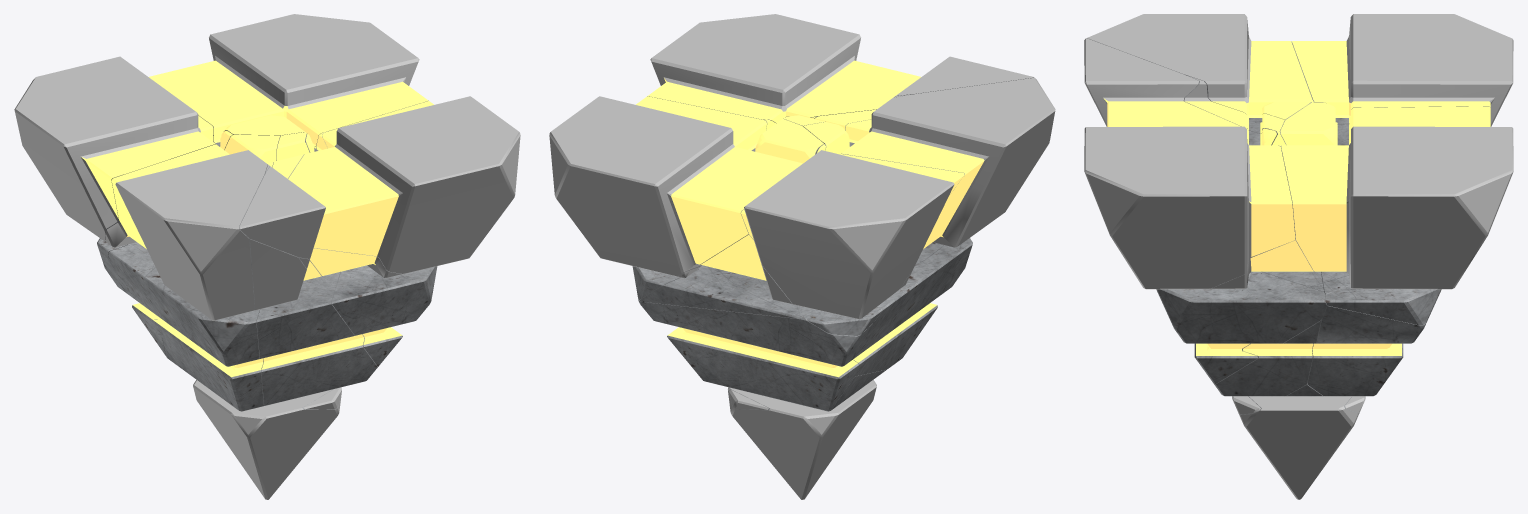
File: Fractured-Pyramid.fbx
3 views of the same model, side by side, from view 1: azimuth 30°, elevation 25°; view 2: azimuth 150°, elevation 25°; view 3: azimuth 270°, elevation 25° (orthographic). The views are drawn at different scales.
Parts seen in each view (by area): view 1: Inverted Pyramid_cell.030, Inverted Pyramid_cell.034, Inverted Pyramid_cell.036, Inverted Pyramid_cell.047, Inverted Pyramid_cell.031, Inverted Pyramid_cell.035, Inverted Pyramid_cell.045, Inverted Pyramid_cell.032, Inverted Pyramid_cell.042, Inverted Pyramid_cell.027, Inverted Pyramid_cell.037; view 2: Inverted Pyramid_cell.034, Inverted Pyramid_cell.036, Inverted Pyramid_cell.030, Inverted Pyramid_cell.047, Inverted Pyramid_cell.037, Inverted Pyramid_cell.045, Inverted Pyramid_cell.035, Inverted Pyramid_cell.041, Inverted Pyramid_cell.029, Inverted Pyramid_cell.048, Inverted Pyramid_cell.042, Inverted Pyramid_cell.046; view 3: Inverted Pyramid_cell.034, Inverted Pyramid_cell.030, Inverted Pyramid_cell.036, Inverted Pyramid_cell.047, Inverted Pyramid_cell.032, Inverted Pyramid_cell.037, Inverted Pyramid_cell.045, Inverted Pyramid_cell.031, Inverted Pyramid_cell.046, Inverted Pyramid_cell.027, Inverted Pyramid_cell.042.
Part boxes in pixels (x1,y1,x2,y2): Inverted Pyramid_cell.030: [239, 96, 520, 273]; Inverted Pyramid_cell.034: [149, 14, 428, 146]; Inverted Pyramid_cell.036: [14, 56, 232, 241]; Inverted Pyramid_cell.047: [105, 134, 280, 320]; Inverted Pyramid_cell.031: [256, 271, 377, 405]; Inverted Pyramid_cell.035: [108, 244, 264, 411]; Inverted Pyramid_cell.045: [193, 380, 341, 499]; Inverted Pyramid_cell.032: [331, 265, 437, 366]; Inverted Pyramid_cell.042: [250, 132, 322, 310]; Inverted Pyramid_cell.027: [299, 132, 404, 278]; Inverted Pyramid_cell.037: [100, 242, 165, 355]; Inverted Pyramid_cell.034: [549, 96, 823, 276]; Inverted Pyramid_cell.036: [741, 144, 964, 319]; Inverted Pyramid_cell.030: [647, 14, 1034, 123]; Inverted Pyramid_cell.047: [803, 77, 1055, 288]; Inverted Pyramid_cell.037: [638, 265, 873, 410]; Inverted Pyramid_cell.045: [728, 380, 876, 499]; Inverted Pyramid_cell.035: [853, 238, 972, 376]; Inverted Pyramid_cell.041: [640, 270, 801, 318]; Inverted Pyramid_cell.029: [701, 234, 793, 304]; Inverted Pyramid_cell.048: [806, 307, 882, 335]; Inverted Pyramid_cell.042: [783, 94, 910, 130]; Inverted Pyramid_cell.046: [632, 266, 697, 299]; Inverted Pyramid_cell.034: [1280, 102, 1513, 289]; Inverted Pyramid_cell.030: [1084, 38, 1295, 289]; Inverted Pyramid_cell.036: [1292, 14, 1513, 126]; Inverted Pyramid_cell.047: [1087, 14, 1314, 133]; Inverted Pyramid_cell.032: [1156, 271, 1326, 383]; Inverted Pyramid_cell.037: [1307, 271, 1426, 396]; Inverted Pyramid_cell.045: [1238, 396, 1359, 499]; Inverted Pyramid_cell.031: [1213, 271, 1323, 396]; Inverted Pyramid_cell.046: [1325, 285, 1441, 325]; Inverted Pyramid_cell.027: [1208, 128, 1313, 288]; Inverted Pyramid_cell.042: [1183, 75, 1286, 145].
Bounding box in the file's own units: 2 × 2 × 2.03.
